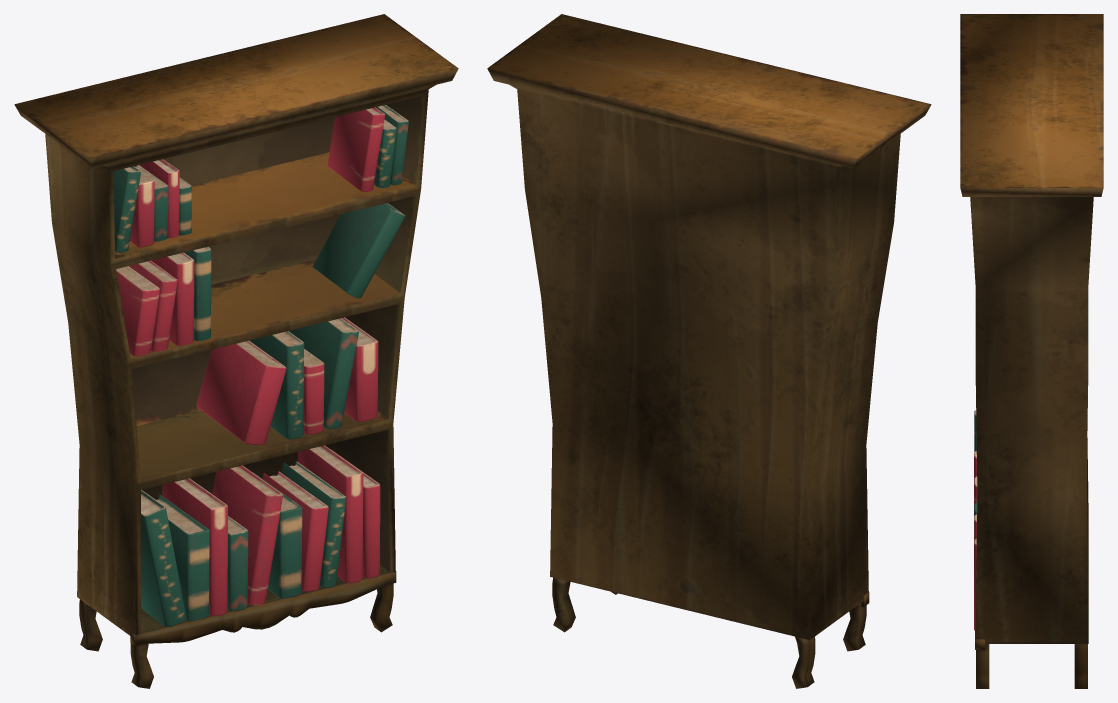
File: bookshelf_low_poly.fbx
The picture shows the model from 3 angles, left to right: view 1: azimuth 30°, elevation 25°; view 2: azimuth 150°, elevation 25°; view 3: azimuth 270°, elevation 25°; orthographic projection. The views are drawn at different scales.
Parts seen in each view (by area): view 1: bibliotheque_low, livre.019, livre.014, livre.004, Cube, livre, livre.007, livre.016, livre.002, livre.001, livre.027, livre.018 (+19 smaller); view 2: bibliotheque_low, pied_low; view 3: bibliotheque_low, pied_low.
Part boxes in pixels (x1,y1,x2,y2): bibliotheque_low: (14, 14, 458, 635); livre.019: (196, 340, 286, 445); livre.014: (312, 203, 405, 298); livre.004: (212, 465, 283, 605); Cube: (130, 571, 396, 646); livre: (141, 490, 186, 626); livre.007: (298, 445, 363, 583); livre.016: (289, 318, 358, 428); livre.002: (162, 478, 228, 616); livre.001: (156, 494, 209, 620); livre.027: (327, 107, 385, 191); livre.018: (249, 331, 304, 439); bibliotheque_low: (487, 14, 931, 639); pied_low: (552, 577, 866, 688); bibliotheque_low: (960, 14, 1103, 643); pied_low: (976, 644, 1087, 688).
Size of the model in its own units: 174 by 249 by 60.73.
4 materials, 4 textured.
